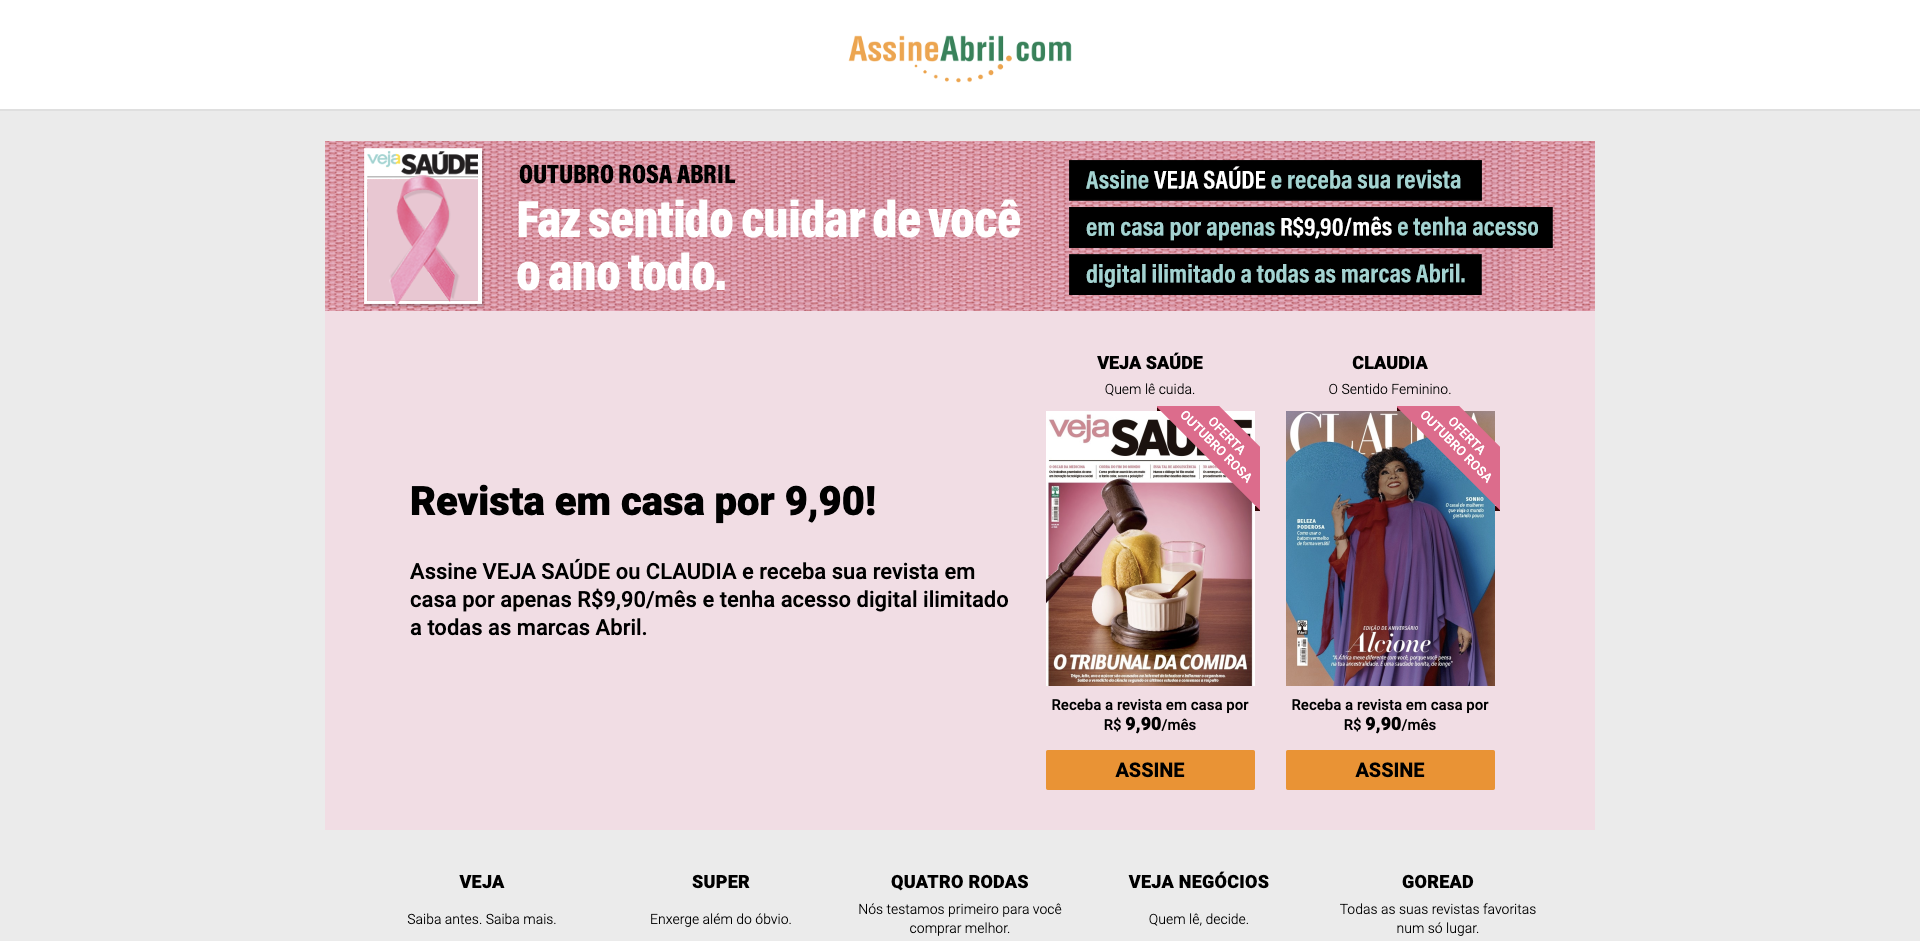button: (1046, 750, 1255, 790), (1286, 750, 1495, 790)
link: (1046, 671, 1255, 690), (1286, 671, 1495, 690)
